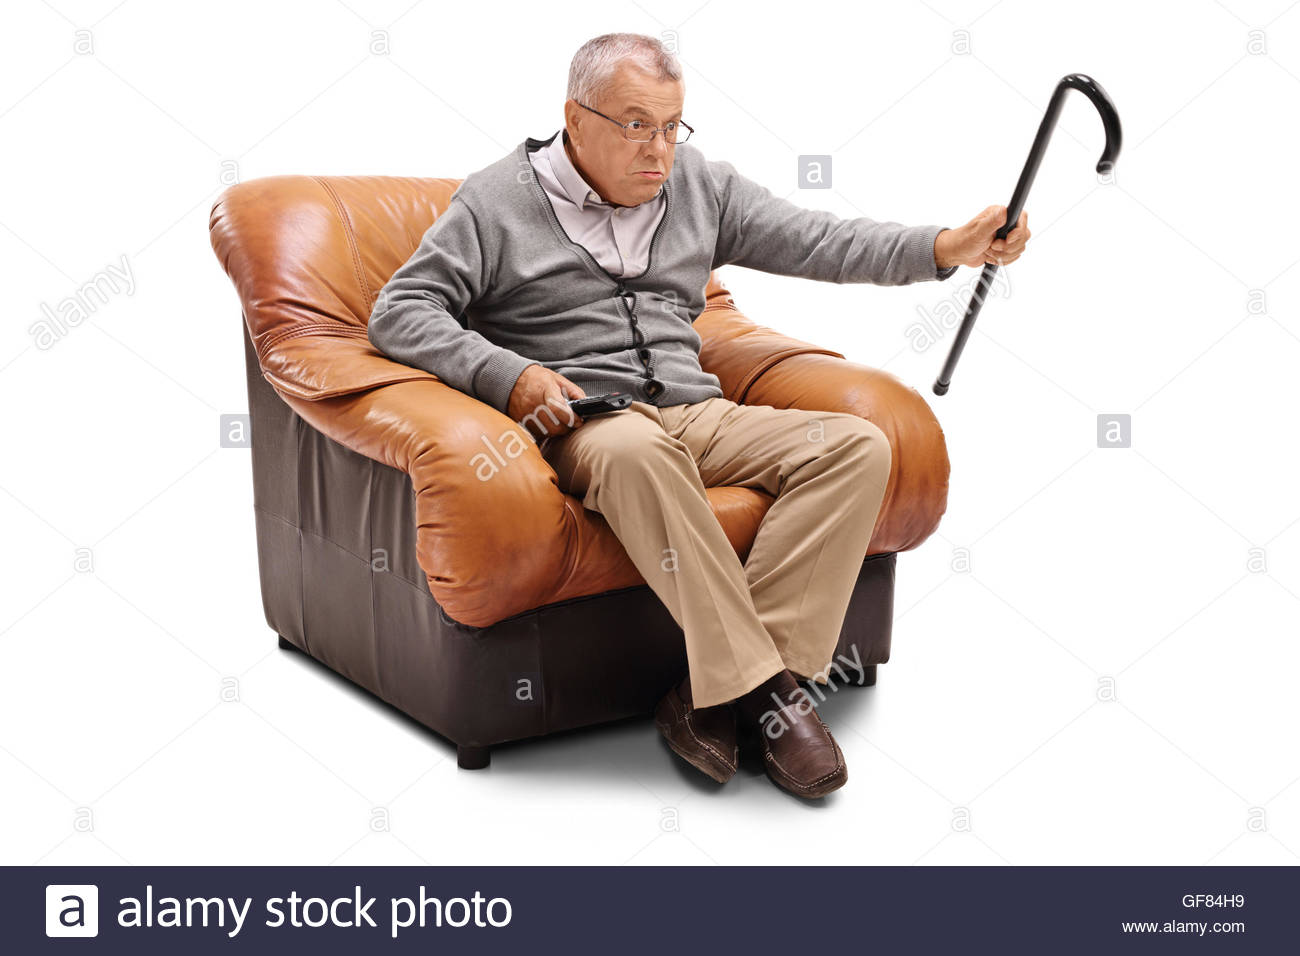chairs: (165, 180, 965, 777)
